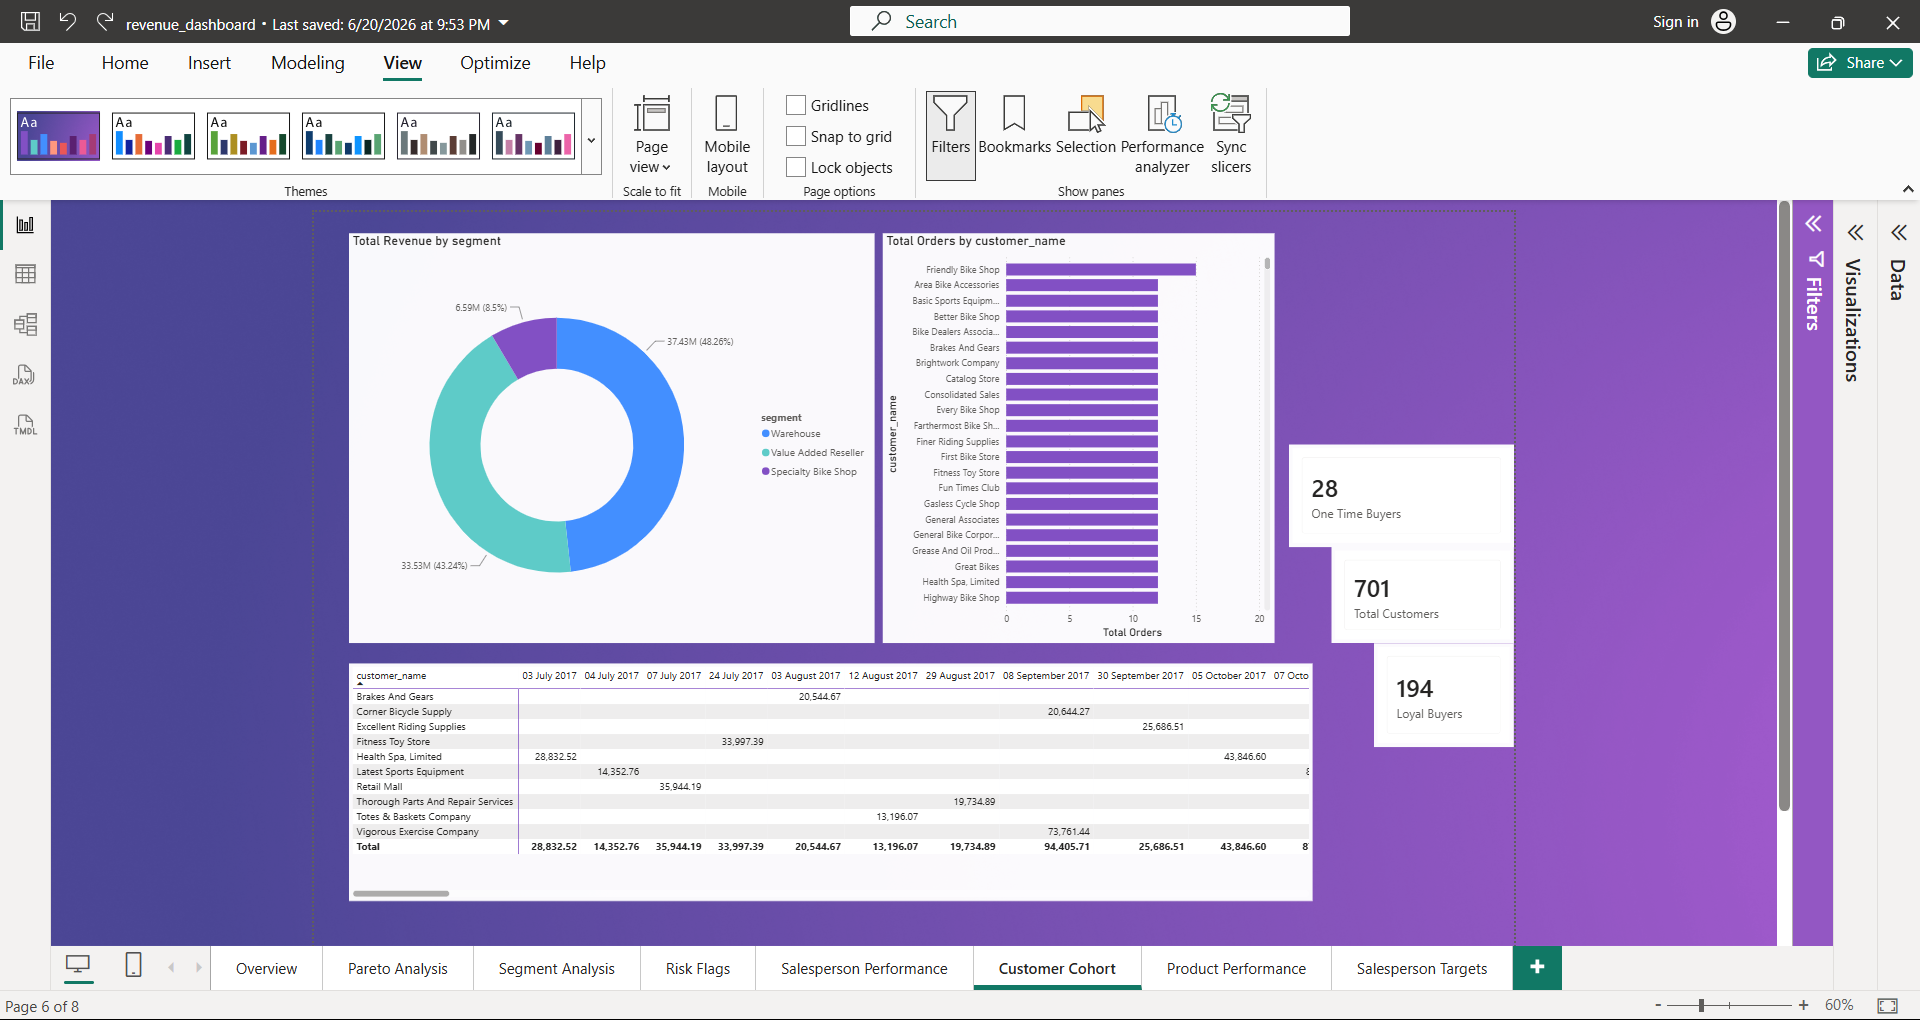

What the dashboard file says about the page in this screenshot:
{"tool":"powerbi","page":{"name":"Customer Cohort","canvas":[1600,1200],"ordinal":5},"visuals":[{"type":"donutChart","fields":{"Category":["customers.segment"],"Y":["customers.Total Revenue"]},"box":[46.9,27.6,700.7,546.2],"z":0},{"type":"clusteredBarChart","fields":{"Category":["customers.customer_name"],"Y":["customers.Total Orders"]},"box":[758,28,522,546],"z":1000},{"type":"pivotTable","fields":{"Rows":["customers.customer_name"],"Values":["customers.Total Revenue"],"Columns":["sales.order_date"]},"box":[46.9,601,350.1,272.9],"z":1001},{"type":"cardVisual","fields":{"Data":["customers.Total Customers"]},"box":[407.1,746.1,242.1,127.3],"z":1002},{"type":"cardVisual","fields":{"Data":["customers.One Time Buyers"]},"box":[407.1,600.8,197.3,136.3],"z":1003},{"type":"cardVisual","fields":{"Data":["customers.Loyal Buyers"]},"box":[627.7,600.8,188.3,136.3],"z":1004}]}

Visuals, with their boxes on the page's 1600x1200 design canvas (x1, y1, x2, y2). These are canvas units, not pixel positions in the 1920x1020 screenshot, which may show the page scaled, cropped or inside an application window:
donutChart - customers.segment x customers.Total Revenue: [47,28,748,574]
clusteredBarChart - customers.customer_name x customers.Total Orders: [758,28,1280,574]
pivotTable - customers.customer_name x customers.Total Revenue: [47,601,397,874]
cardVisual - customers.Total Customers: [407,746,649,873]
cardVisual - customers.One Time Buyers: [407,601,604,737]
cardVisual - customers.Loyal Buyers: [628,601,816,737]
